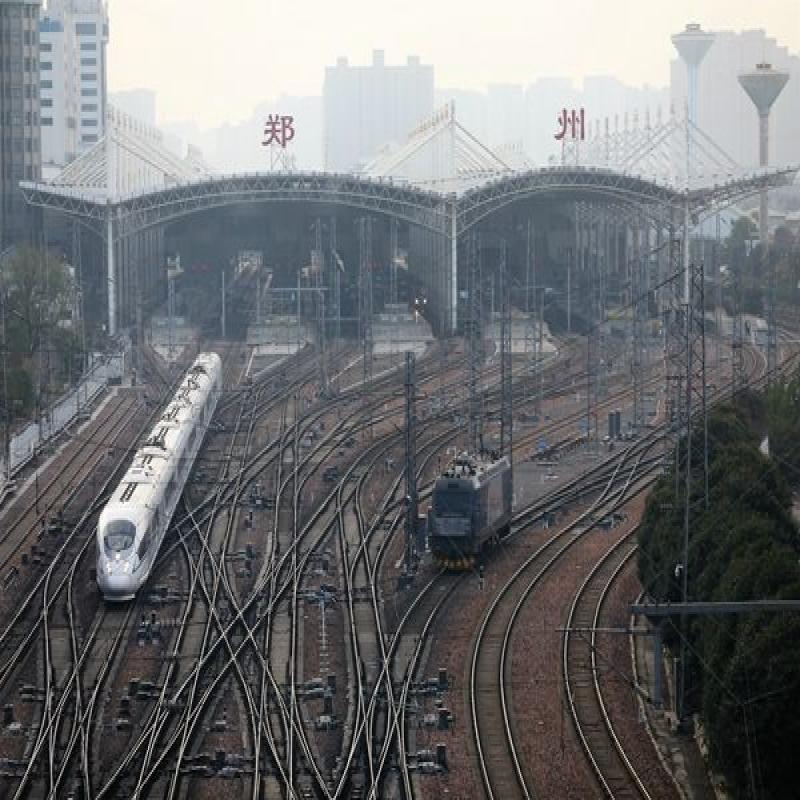train: (104, 355, 228, 591), (426, 453, 517, 573)
